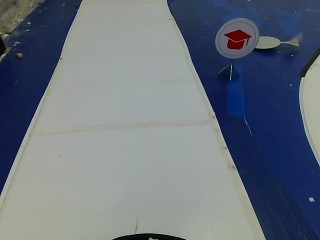school: (212, 13, 258, 61)
